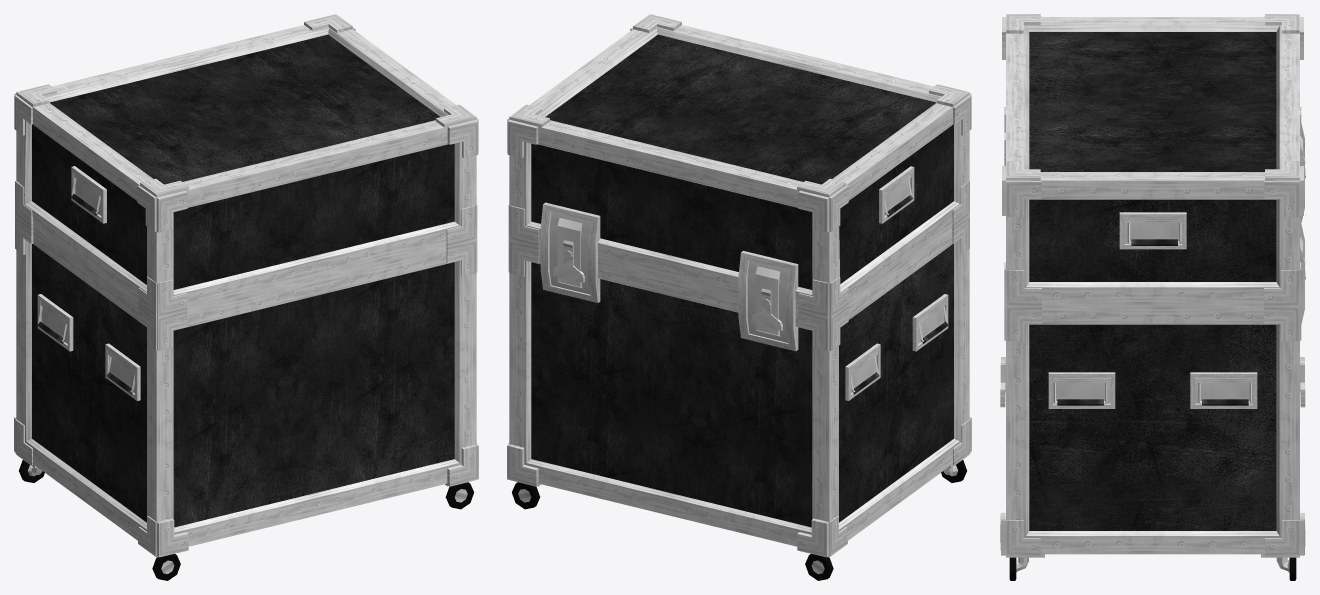
File: w_flight_case_big_3.fbx
3 views of the same model, side by side, from view 1: azimuth 30°, elevation 25°; view 2: azimuth 150°, elevation 25°; view 3: azimuth 270°, elevation 25° (orthographic). The views are drawn at different scales.
Visible parts, largest first — view 1: w_flight_case_big_3; view 2: w_flight_case_big_3; view 3: w_flight_case_big_3.
Part boxes in pixels (box(x1,y1,x2,y2)): w_flight_case_big_3: box(14, 14, 478, 580); w_flight_case_big_3: box(507, 14, 971, 580); w_flight_case_big_3: box(1000, 14, 1305, 580).
Bounding box in the file's own units: 1.17 × 1.33 × 0.8996.
